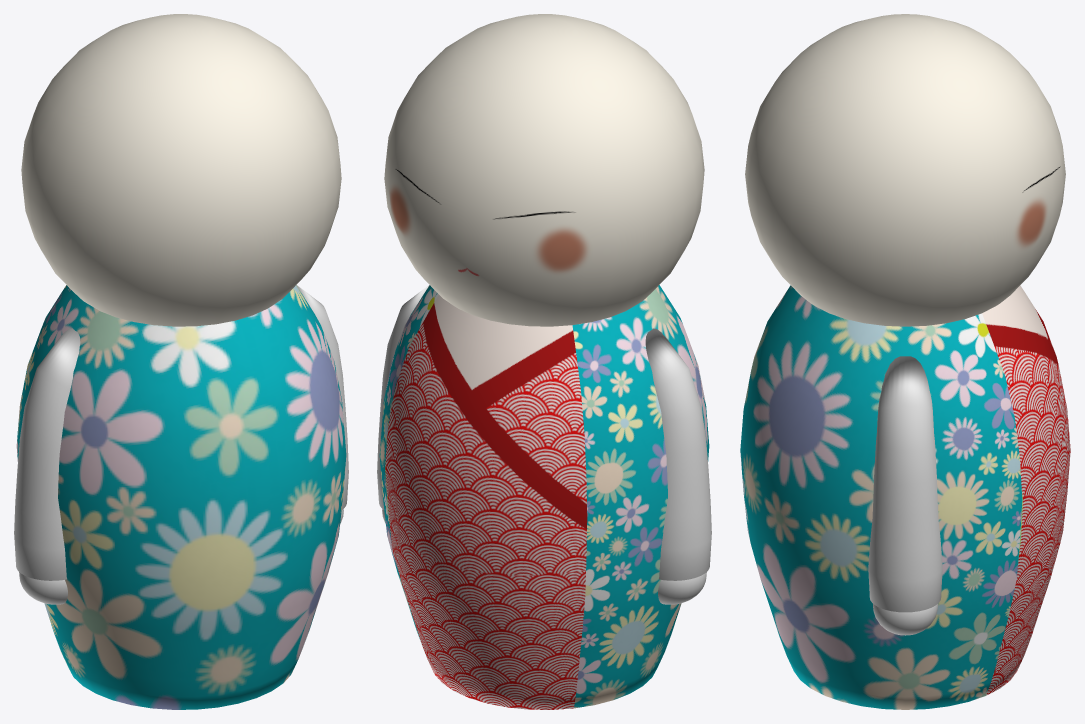
Rendered from Kimmidoll_S.fbx.
3 renders of one model, left to right at view 1: azimuth 30°, elevation 25°; view 2: azimuth 150°, elevation 25°; view 3: azimuth 270°, elevation 25°, orthographic.
Visible parts, largest first — view 1: Body.002, FaceM.001, ArmL.002, ArmR.002, HandL.002; view 2: Body.002, FaceM.001, ArmL.002, ArmR.002, HandL.002; view 3: Body.002, FaceM.001, ArmR.002, HandR.002.
Boxes of the visible parts, bbox=[...] form: Body.002: bbox=[16, 285, 346, 709]; FaceM.001: bbox=[21, 14, 341, 326]; ArmL.002: bbox=[14, 328, 80, 580]; ArmR.002: bbox=[296, 285, 348, 509]; HandL.002: bbox=[19, 572, 67, 604]; Body.002: bbox=[379, 285, 709, 709]; FaceM.001: bbox=[384, 14, 704, 326]; ArmL.002: bbox=[645, 328, 711, 580]; ArmR.002: bbox=[377, 285, 429, 509]; HandL.002: bbox=[658, 572, 706, 604]; Body.002: bbox=[740, 285, 1070, 709]; FaceM.001: bbox=[745, 14, 1065, 326]; ArmR.002: bbox=[868, 356, 942, 612]; HandR.002: bbox=[873, 604, 937, 635].
Size of the model in its own units: 200 by 372 by 176.
